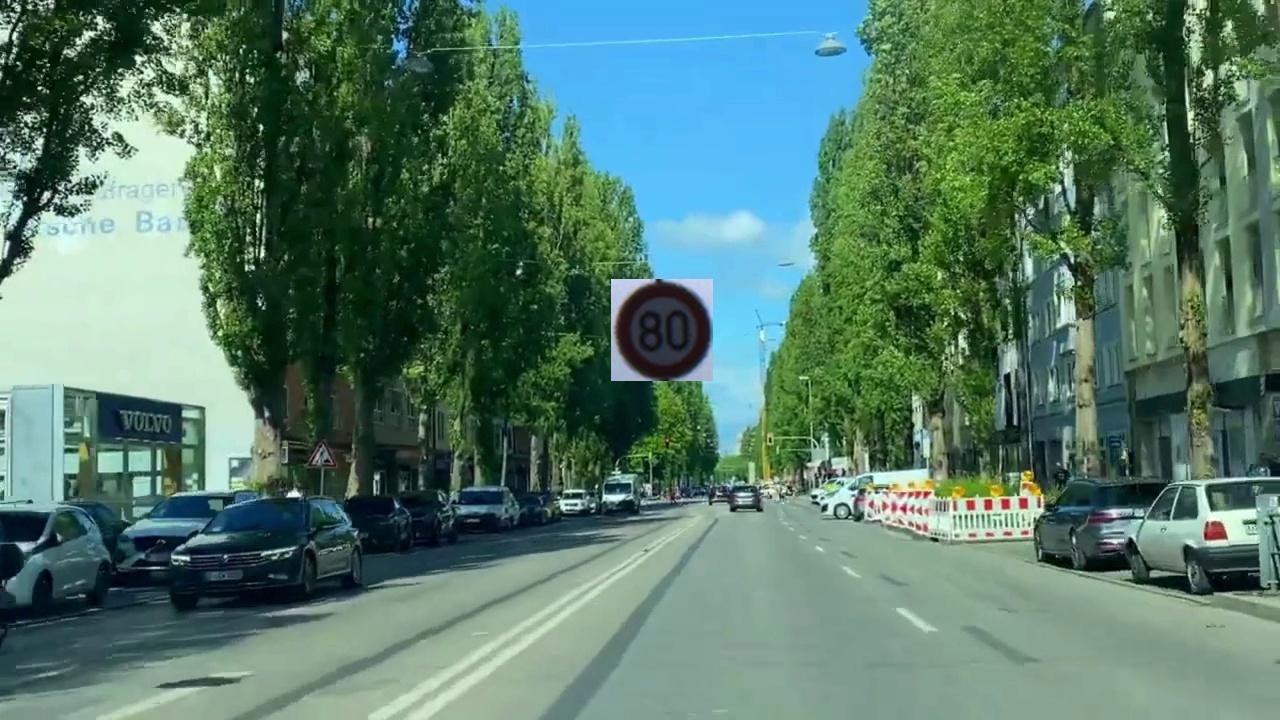Speed 80: (611, 279, 713, 381)
